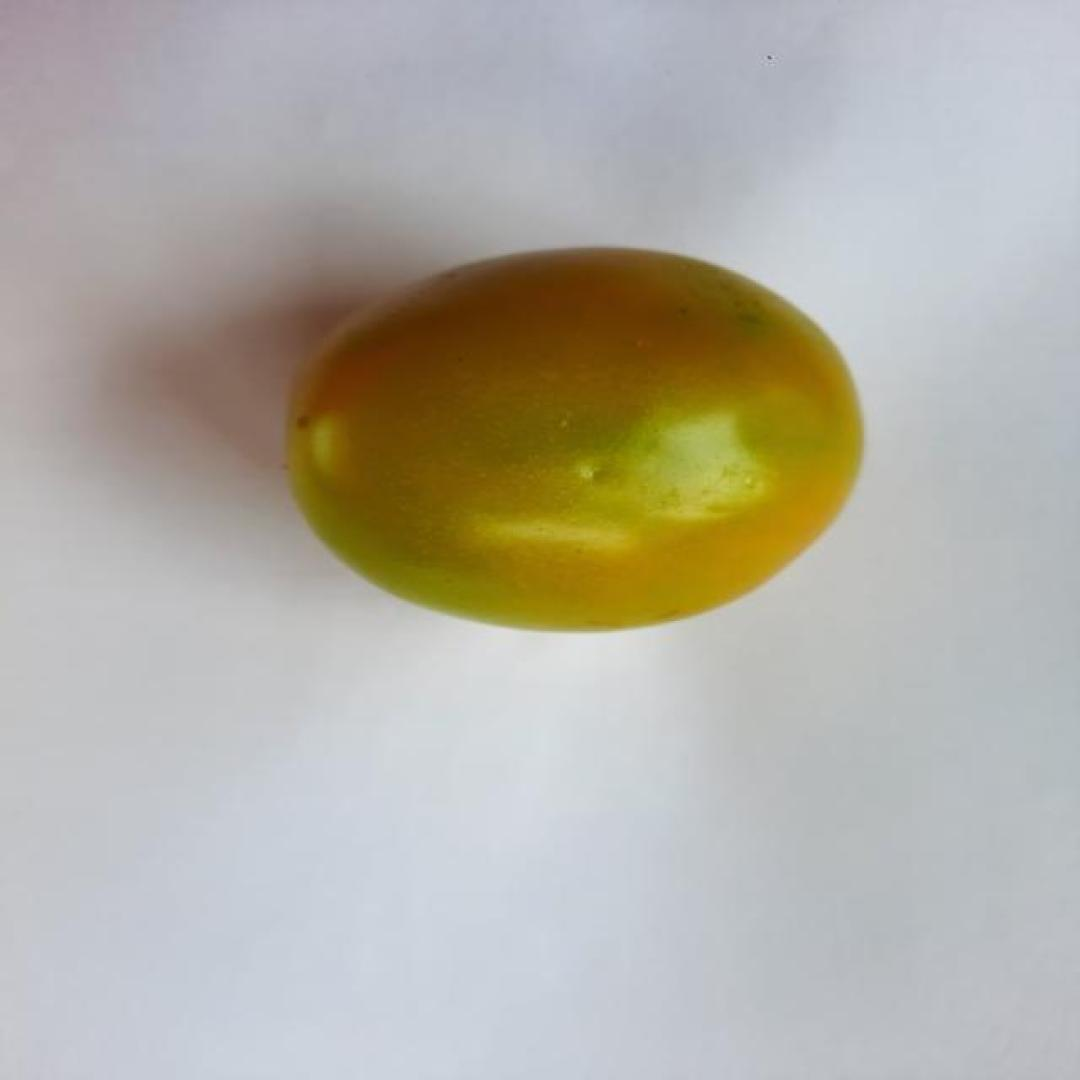setengah_matang: (272, 240, 873, 640)
